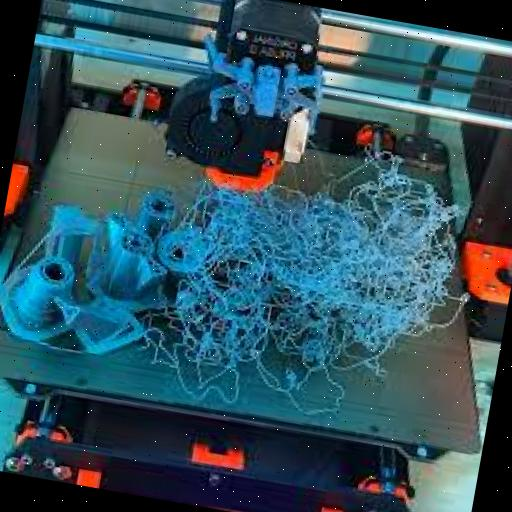spaghetti: (150, 121, 472, 438)
